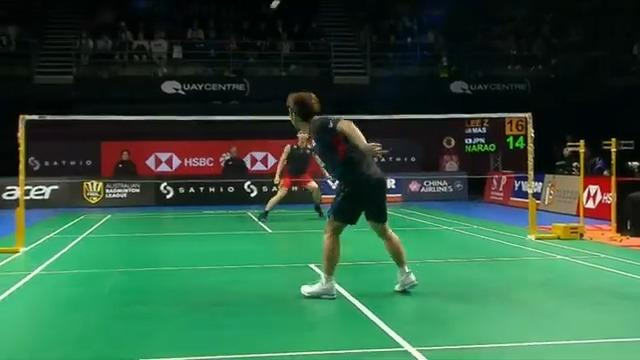Shuttlecock: (264, 1, 284, 12)
